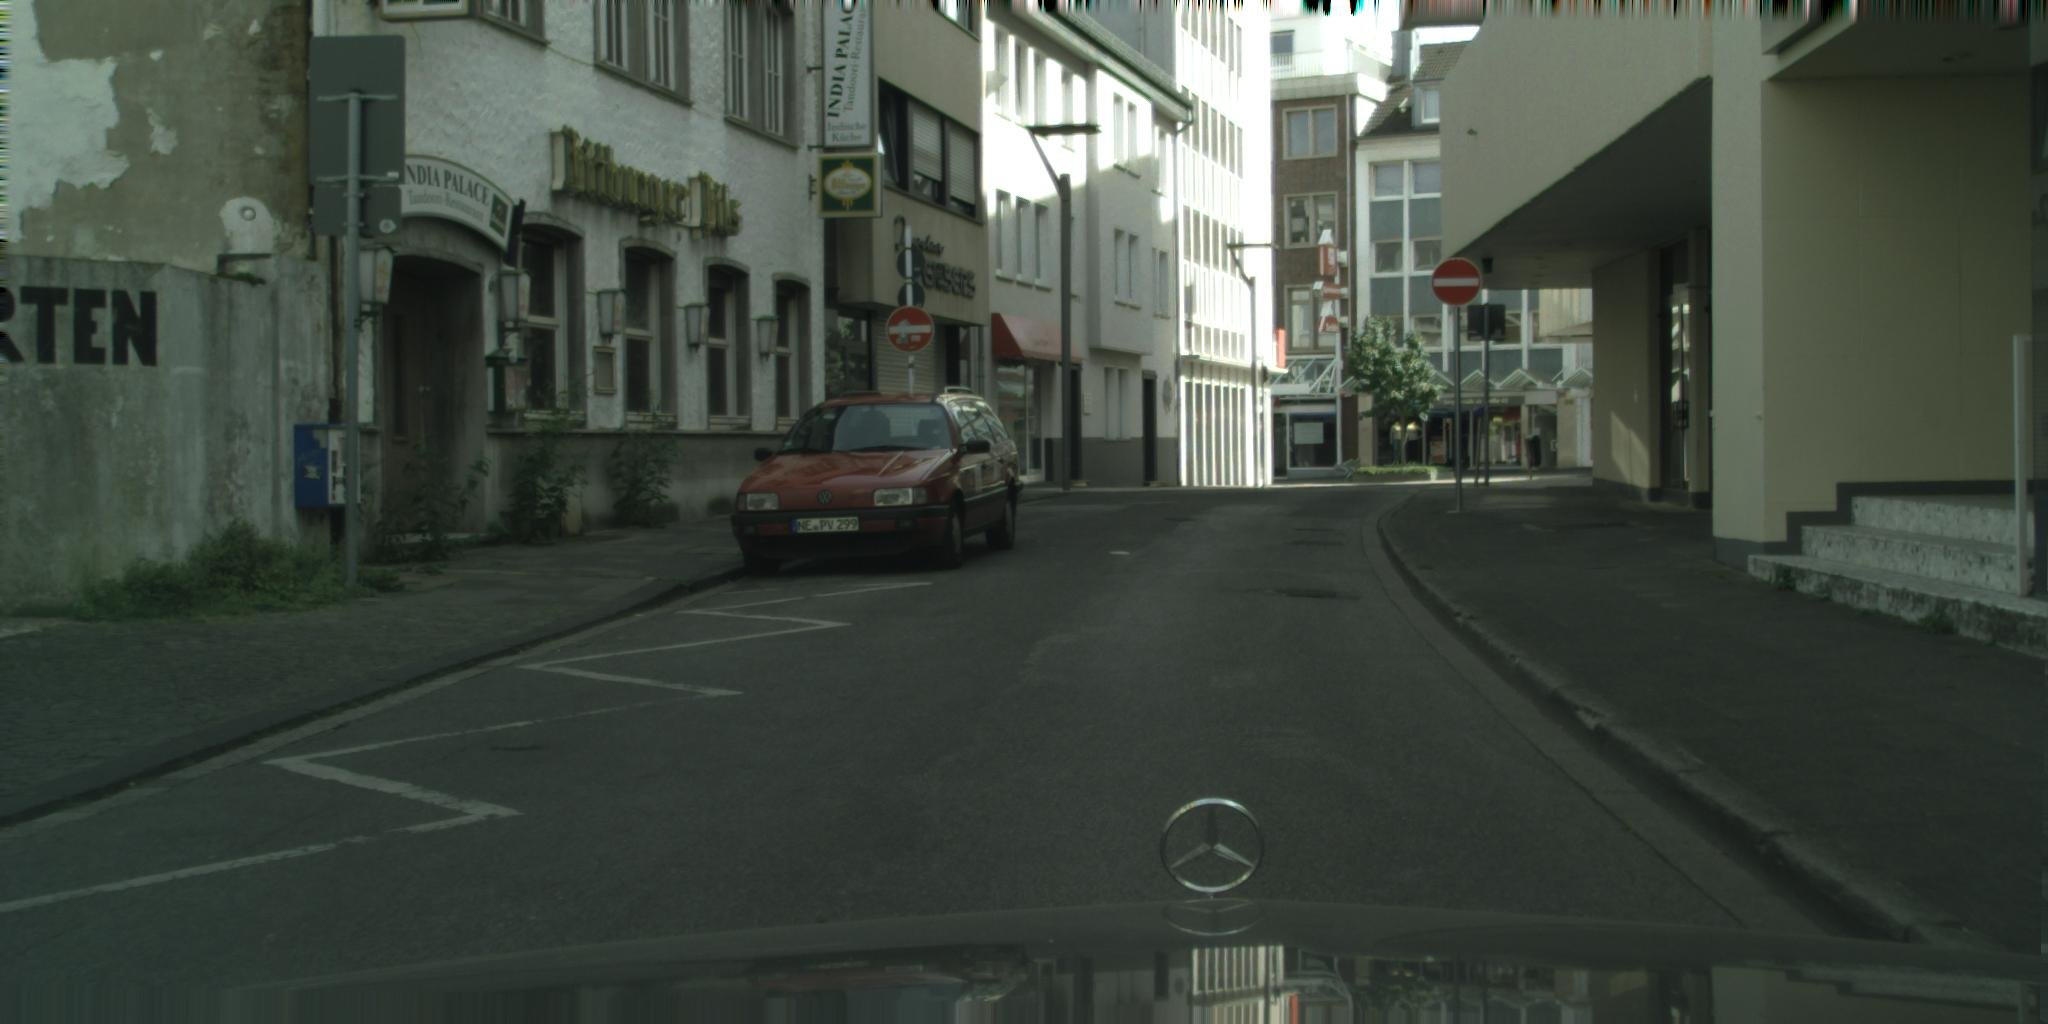car: (730, 387, 1024, 576)
